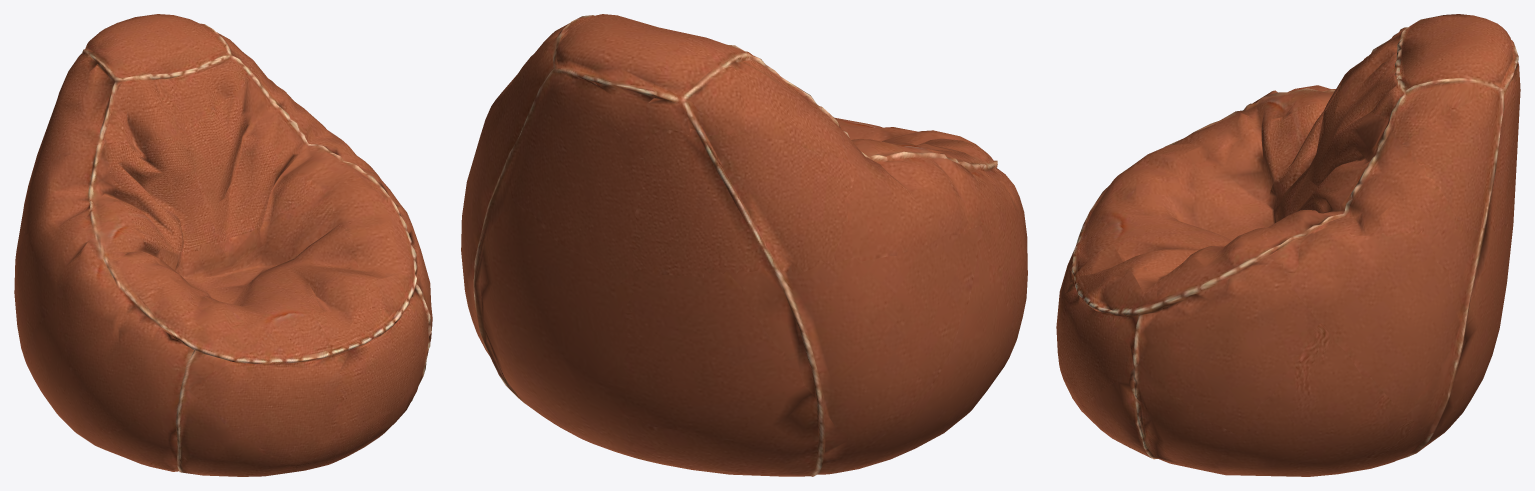
File: beanbag.low.glb
The picture shows the model from 3 angles, left to right: view 1: azimuth 30°, elevation 25°; view 2: azimuth 150°, elevation 25°; view 3: azimuth 270°, elevation 25°; orthographic projection. The views are drawn at different scales.
Visible parts, largest first — view 1: tripo_node_8b5d36cf-8a70-4076-bdee-36c7931b2535; view 2: tripo_node_8b5d36cf-8a70-4076-bdee-36c7931b2535; view 3: tripo_node_8b5d36cf-8a70-4076-bdee-36c7931b2535.
Boxes of the visible parts, x1,y1,x2,y2 form: tripo_node_8b5d36cf-8a70-4076-bdee-36c7931b2535: [14, 14, 432, 476]; tripo_node_8b5d36cf-8a70-4076-bdee-36c7931b2535: [461, 14, 1027, 476]; tripo_node_8b5d36cf-8a70-4076-bdee-36c7931b2535: [1056, 14, 1520, 476].
Size of the model in its own units: 0.8995 by 0.8078 by 0.8992.
Materials: 1 (1 with a texture image).
